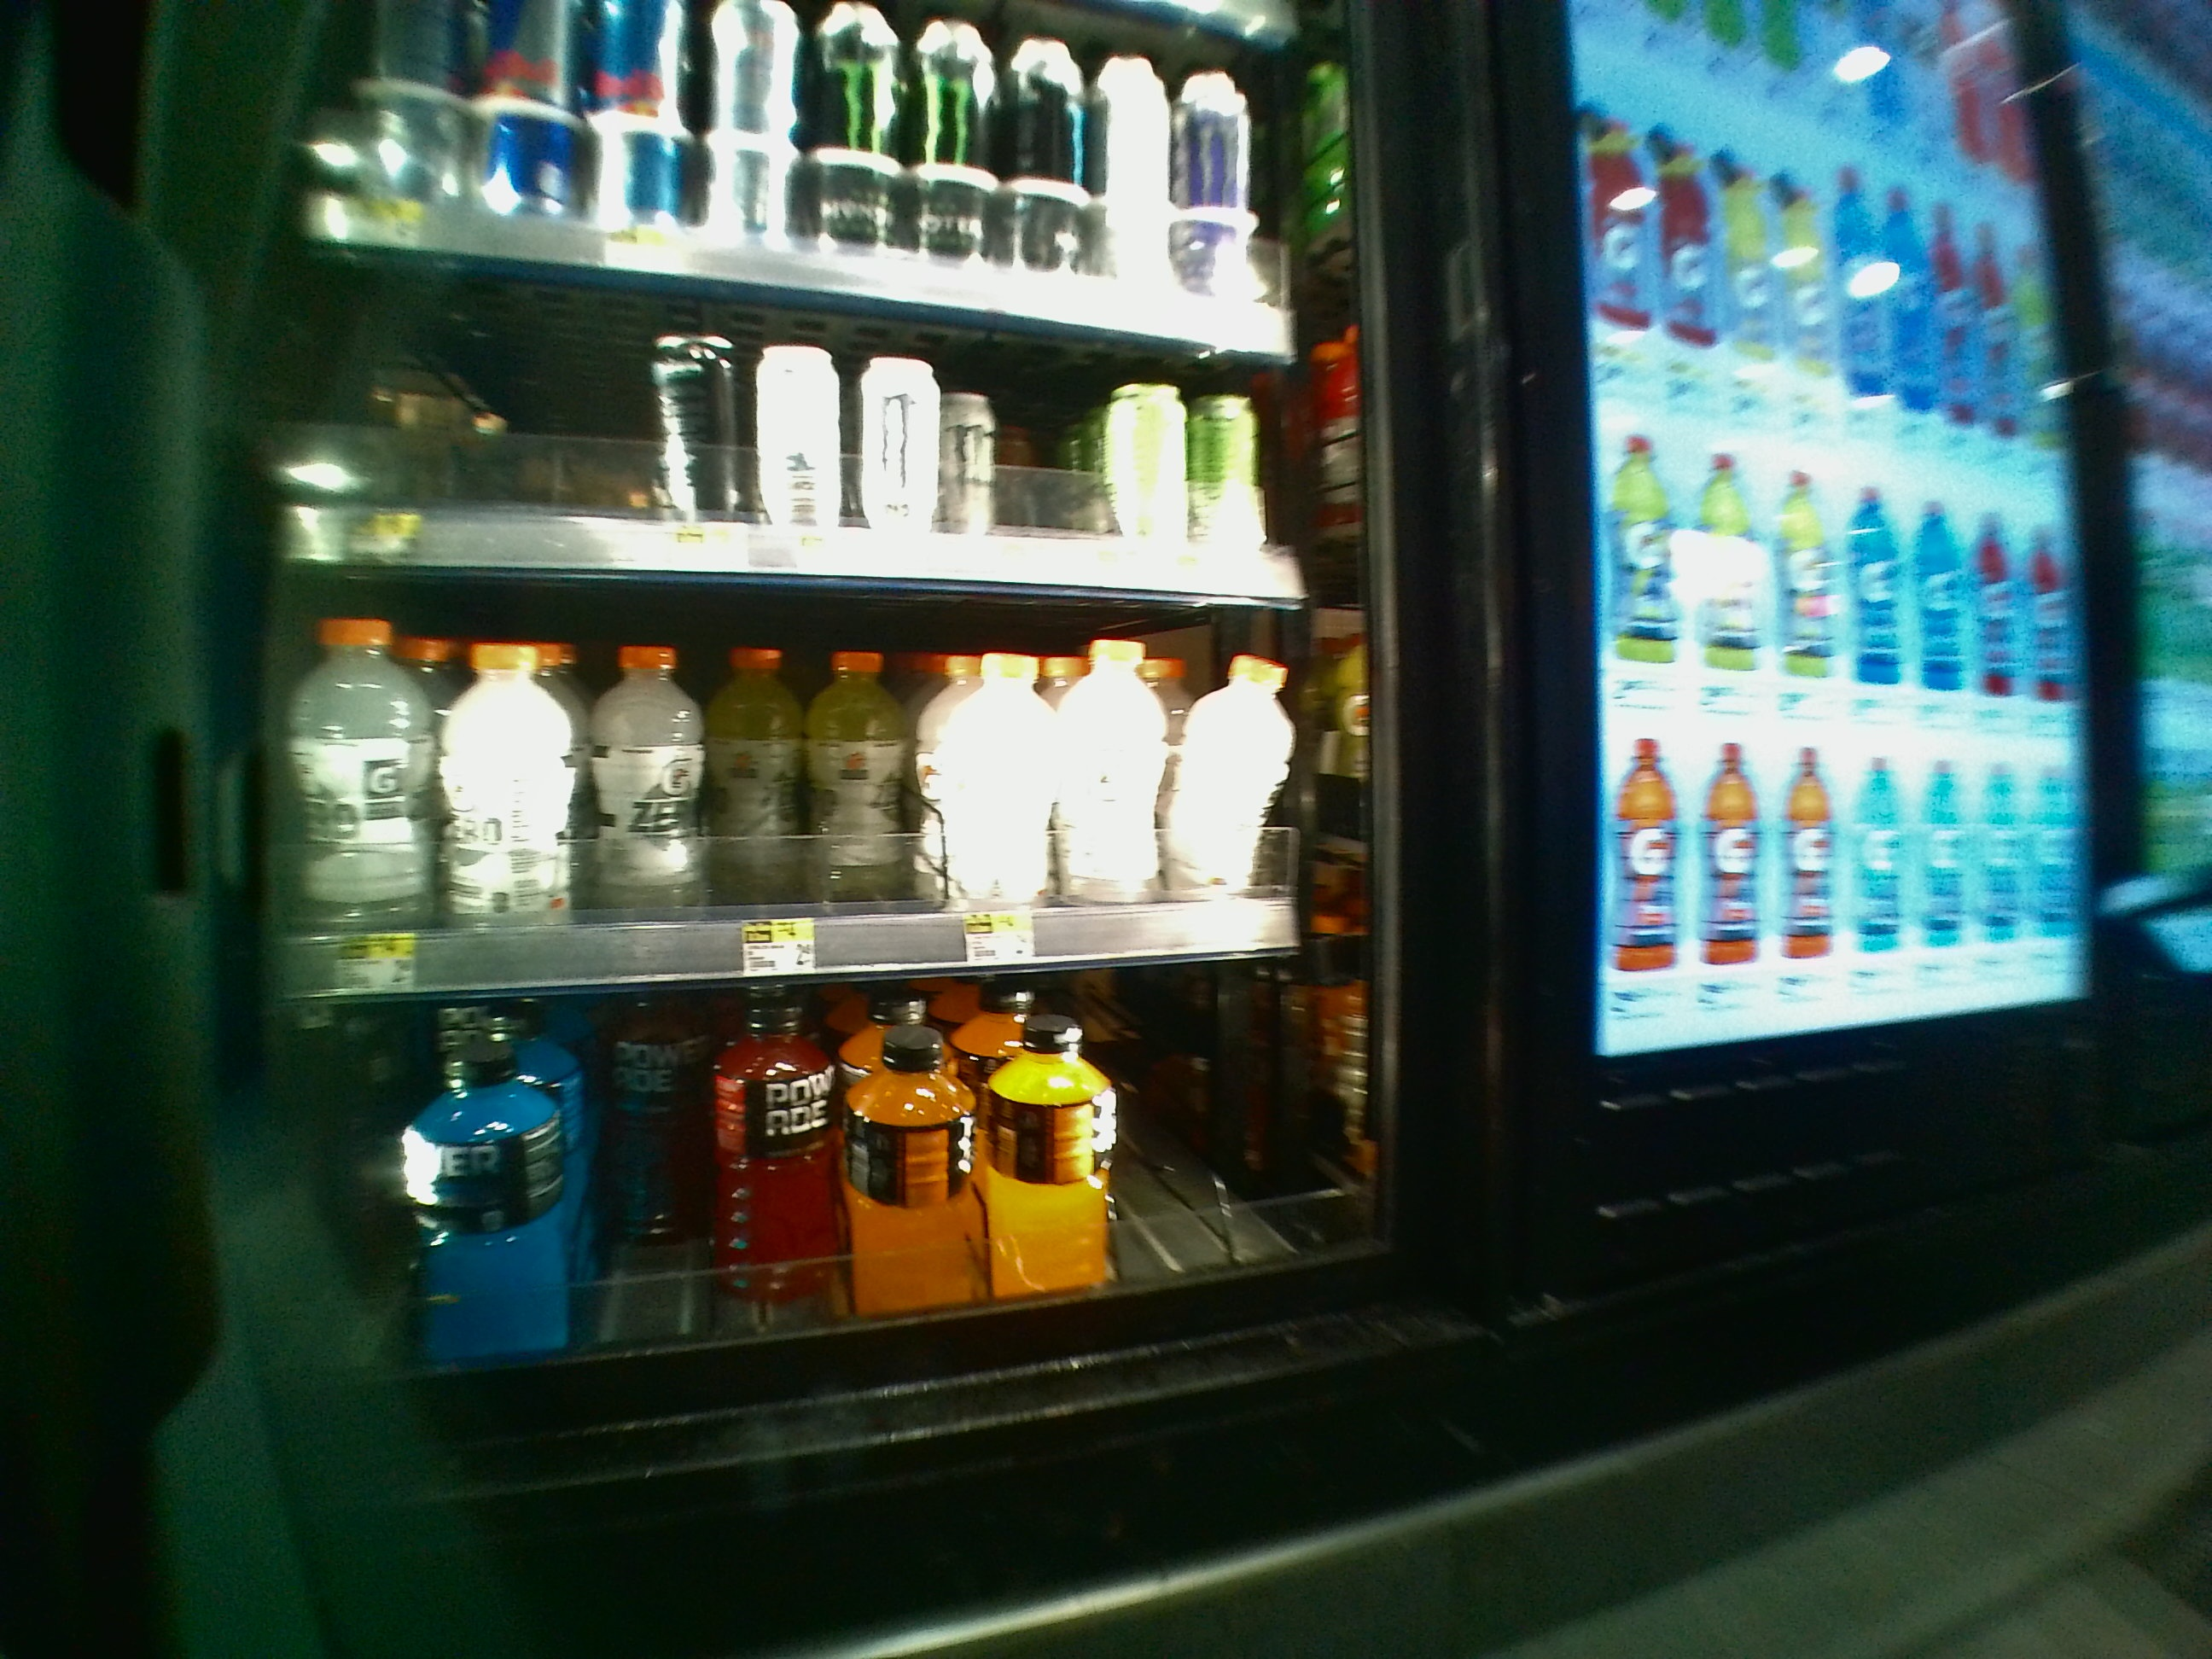shelf: (260, 554, 1350, 976)
